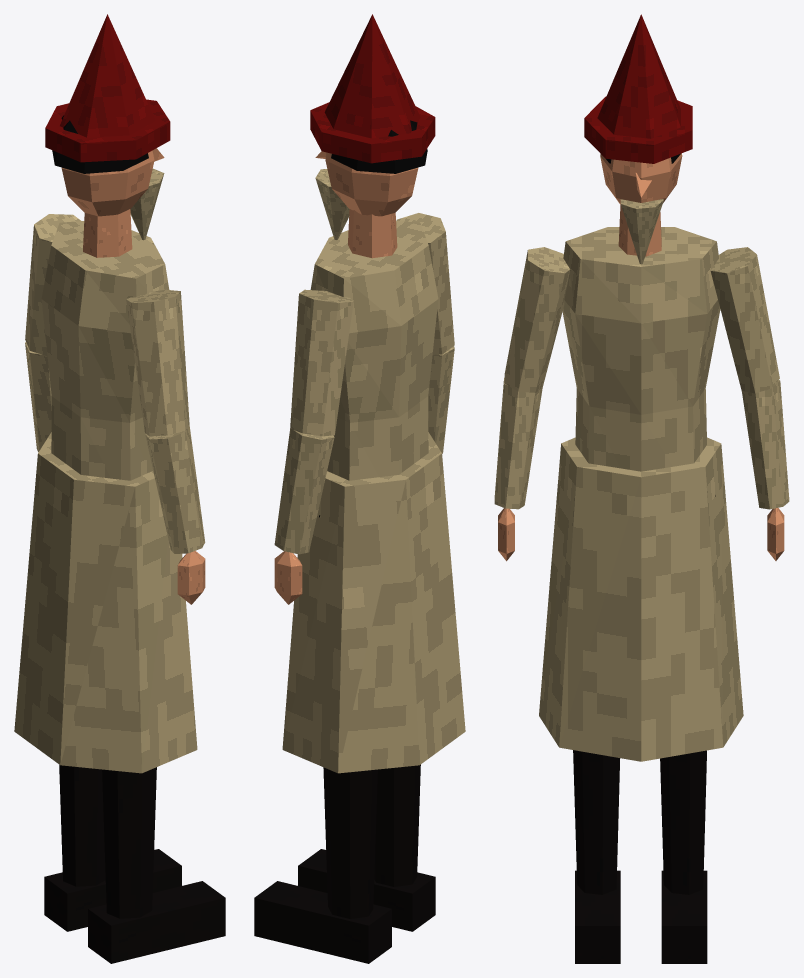
The model's file is curandero.glb.
The picture shows the model from 3 angles, left to right: view 1: azimuth 30°, elevation 25°; view 2: azimuth 150°, elevation 25°; view 3: azimuth 270°, elevation 25°; orthographic projection.
Visible parts, largest first — view 1: faldon, torso, gorro, pierna_der, brazo_der, pie_der, pierna_izq, antebrazo_der, cabeza, pie_izq, brazo_izq, cuello (+4 smaller); view 2: faldon, torso, gorro, pierna_izq, brazo_izq, pie_izq, pierna_der, antebrazo_izq, cabeza, pie_der, brazo_der, cuello (+4 smaller); view 3: faldon, torso, gorro, brazo_izq, brazo_der, pierna_der, pierna_izq, antebrazo_izq, antebrazo_der, pie_izq, pie_der, cabeza (+4 smaller).
Part boxes in pixels (x1=…): faldon: x1=14, y1=432, x2=197, y2=773; torso: x1=41, y1=221, x2=169, y2=480; gorro: x1=45, y1=14, x2=170, y2=162; pierna_der: x1=102, y1=767, x2=156, y2=918; brazo_der: x1=126, y1=289, x2=189, y2=436; pie_der: x1=88, y1=881, x2=225, y2=963; pierna_izq: x1=59, y1=765, x2=105, y2=886; antebrazo_der: x1=145, y1=426, x2=205, y2=553; cabeza: x1=61, y1=148, x2=164, y2=216; pie_izq: x1=44, y1=849, x2=181, y2=931; brazo_izq: x1=25, y1=214, x2=80, y2=356; cuello: x1=83, y1=209, x2=132, y2=257; faldon: x1=282, y1=432, x2=465, y2=773; torso: x1=310, y1=221, x2=438, y2=480; gorro: x1=310, y1=14, x2=435, y2=163; pierna_izq: x1=323, y1=767, x2=377, y2=918; brazo_izq: x1=290, y1=289, x2=353, y2=436; pie_izq: x1=254, y1=881, x2=391, y2=963; pierna_der: x1=374, y1=764, x2=420, y2=886; antebrazo_izq: x1=274, y1=428, x2=334, y2=554; cabeza: x1=315, y1=151, x2=418, y2=216; pie_der: x1=298, y1=849, x2=435, y2=931; brazo_der: x1=396, y1=213, x2=454, y2=354; cuello: x1=348, y1=209, x2=397, y2=258; faldon: x1=539, y1=437, x2=743, y2=761; torso: x1=562, y1=227, x2=720, y2=471; gorro: x1=584, y1=14, x2=692, y2=163; brazo_izq: x1=710, y1=247, x2=779, y2=393; brazo_der: x1=504, y1=247, x2=570, y2=392; pierna_der: x1=573, y1=750, x2=619, y2=894; pierna_izq: x1=660, y1=750, x2=706, y2=894; antebrazo_izq: x1=742, y1=380, x2=789, y2=509; antebrazo_der: x1=494, y1=377, x2=542, y2=509; pie_izq: x1=661, y1=870, x2=707, y2=963; pie_der: x1=575, y1=870, x2=620, y2=963; cabeza: x1=600, y1=153, x2=682, y2=204.
Bounding box in the file's own units: 0.3 × 1.7 × 0.5.
1 material, 1 textured.
